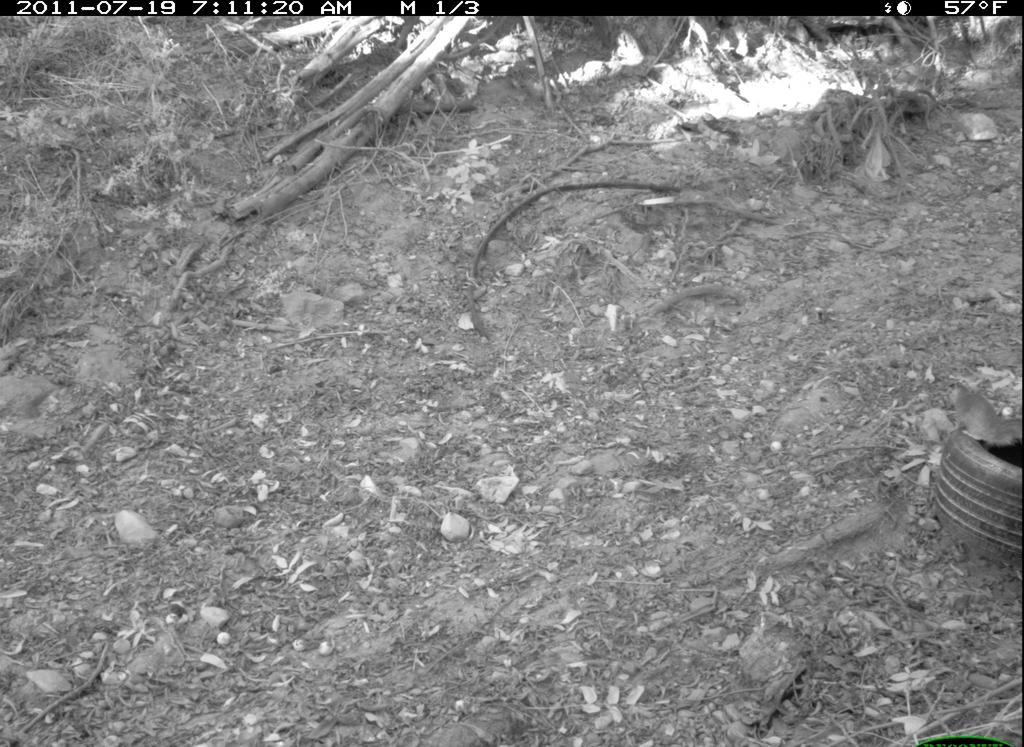squirrel: (943, 372, 1021, 461)
